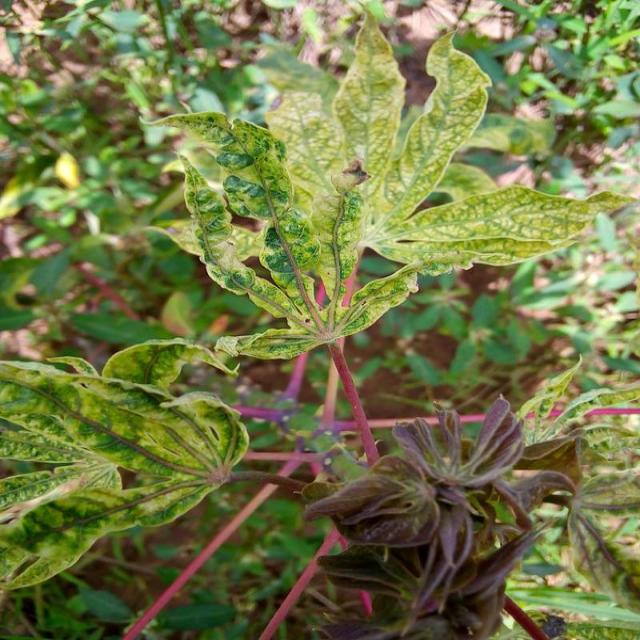cassava leaf: (139, 9, 637, 362), (302, 392, 580, 638), (2, 338, 250, 591)
